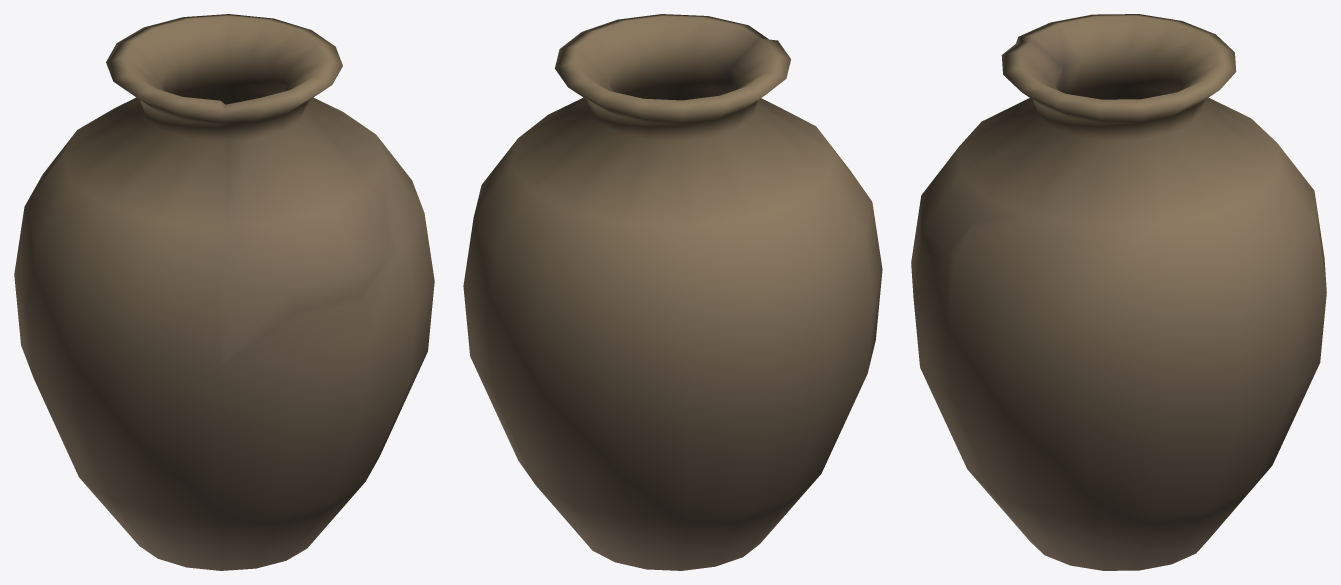
File: furnishings-indoor-ceramicpot_v3.glb
3 renders of one model, left to right at view 1: azimuth 30°, elevation 25°; view 2: azimuth 150°, elevation 25°; view 3: azimuth 270°, elevation 25°, orthographic.
Parts seen in each view (by area): view 1: CeramicPot_v3; view 2: CeramicPot_v3; view 3: CeramicPot_v3.
Boxes of the visible parts, bbox=[...] form: CeramicPot_v3: bbox=[14, 14, 434, 570]; CeramicPot_v3: bbox=[463, 14, 882, 570]; CeramicPot_v3: bbox=[911, 14, 1326, 570].
Bounding box in the file's own units: 0.8237 × 1.04 × 0.8237.
